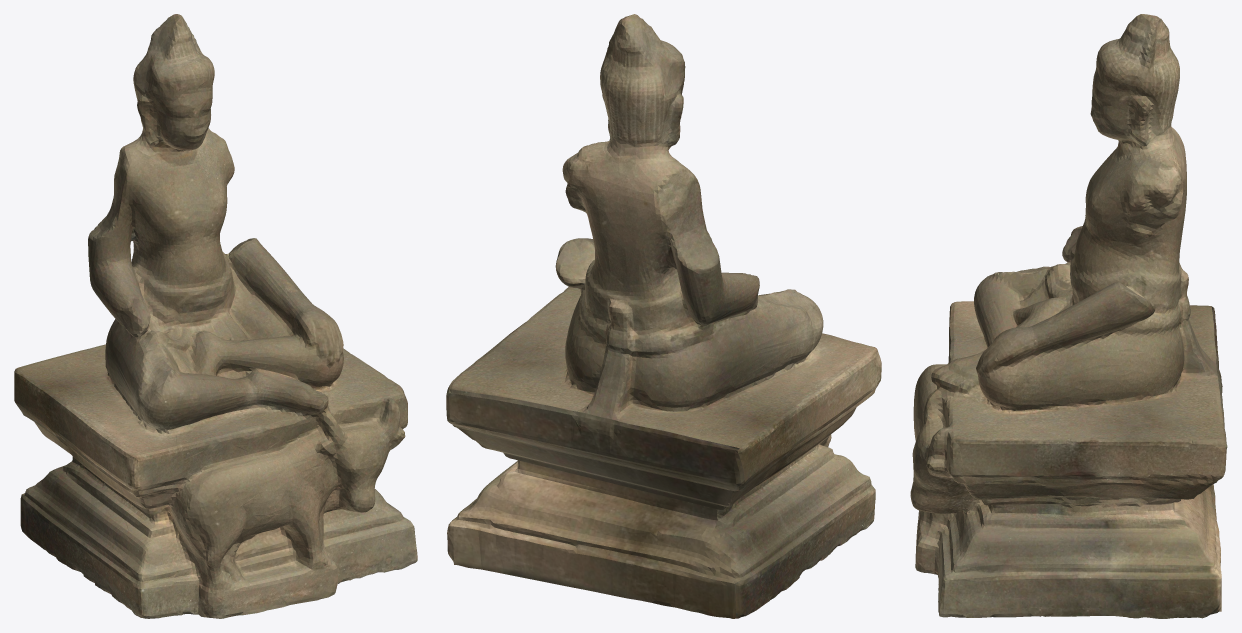
File: 20_thanphuonghuong_final.glb
3 views of the same model, side by side, from view 1: azimuth 30°, elevation 25°; view 2: azimuth 150°, elevation 25°; view 3: azimuth 270°, elevation 25° (orthographic). The views are drawn at different scales.
Bounding box in the file's own units: 0.3945 × 0.6861 × 0.3685.
Materials: 1 (1 with a texture image).
